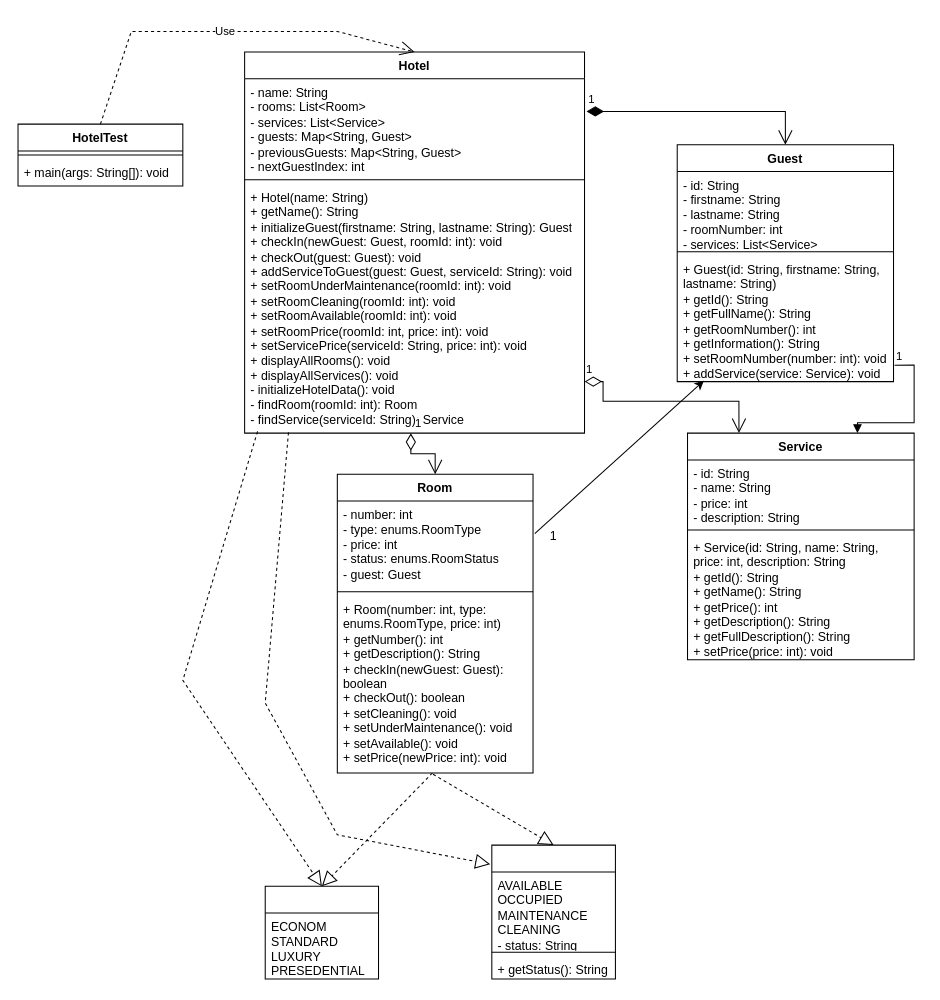
The diagram is 940 pixels wide and 1000 high, and some of its shapes have lost their labels. The box of each missing label's shape, as (x1, y1, x2, y2) in pixels:
enums.RoomStatus: (491, 844, 615, 979)
enums.RoomType: (264, 885, 379, 979)
